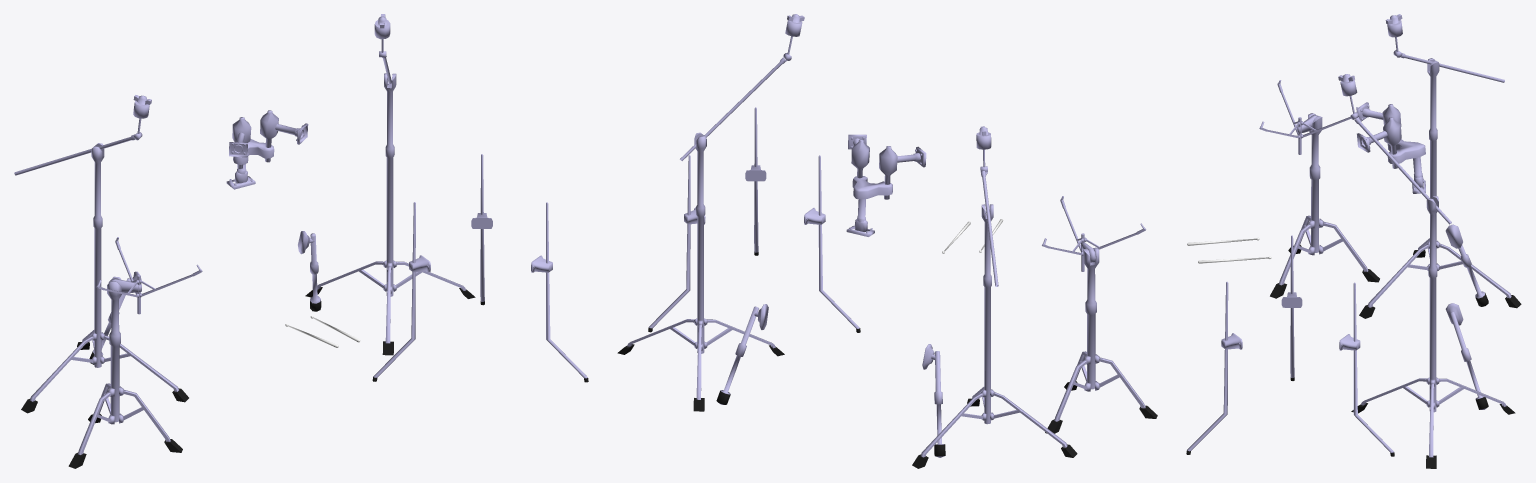
File: drums.glb
The picture shows the model from 3 angles, left to right: view 1: azimuth 30°, elevation 25°; view 2: azimuth 150°, elevation 25°; view 3: azimuth 270°, elevation 25°; orthographic projection. The views are drawn at different scales.
Parts seen in each view (by area): view 1: crash_symbal.002, crash_symbal.027, Snare Sit.063, Floor tom.019, Floor tom.011; view 2: crash_symbal.027, crash_symbal.002, Snare Sit.063, Floor tom.012, Floor tom.019, Bass drum.099, Bass drum.078, Bass drum.088, Floor tom.011; view 3: crash_symbal.027, Snare Sit.063, crash_symbal.002, Floor tom.012, Floor tom.011, Bass drum.099, Bass drum.088, Floor tom.019, crash_symbal.045, Bass drum.089, Bass drum.078, crash_symbal.020 (+1 smaller).
Part boxes in pixels (bbox=[...]): crash_symbal.002: bbox=[91, 143, 104, 367]; crash_symbal.027: bbox=[384, 73, 396, 296]; Snare Sit.063: bbox=[107, 276, 121, 422]; Floor tom.019: bbox=[372, 202, 415, 381]; Floor tom.011: bbox=[546, 202, 588, 382]; crash_symbal.027: bbox=[694, 132, 706, 353]; crash_symbal.002: bbox=[981, 204, 993, 424]; Snare Sit.063: bbox=[1083, 247, 1099, 389]; Floor tom.012: bbox=[648, 155, 690, 332]; Floor tom.019: bbox=[818, 155, 860, 332]; Bass drum.099: bbox=[716, 306, 758, 404]; Bass drum.078: bbox=[934, 351, 945, 457]; Bass drum.088: bbox=[852, 176, 892, 199]; Floor tom.011: bbox=[754, 107, 758, 255]; crash_symbal.027: bbox=[1426, 195, 1438, 412]; Snare Sit.063: bbox=[1308, 113, 1322, 252]; crash_symbal.002: bbox=[1427, 58, 1439, 263]; Floor tom.012: bbox=[1353, 282, 1394, 456]; Floor tom.011: bbox=[1186, 281, 1228, 454]; Bass drum.099: bbox=[1450, 312, 1488, 409]; Bass drum.088: bbox=[1387, 139, 1425, 164]; Floor tom.019: bbox=[1290, 235, 1294, 380]; crash_symbal.045: bbox=[1354, 117, 1451, 224]; Bass drum.089: bbox=[1383, 117, 1401, 168]; Bass drum.078: bbox=[1458, 245, 1488, 306]; crash_symbal.020: bbox=[1400, 53, 1504, 82].
Bounding box in the file's own units: 4.27 × 2.99 × 2.7.
